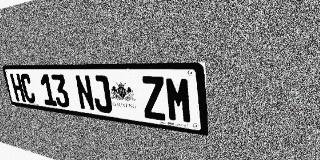1: (38, 74, 57, 106)
3: (51, 74, 70, 108)
C: (19, 74, 36, 104)
H: (10, 73, 26, 102)
J: (90, 75, 113, 114)
M: (164, 76, 193, 124)
N: (74, 75, 96, 111)
Z: (140, 76, 167, 121)
